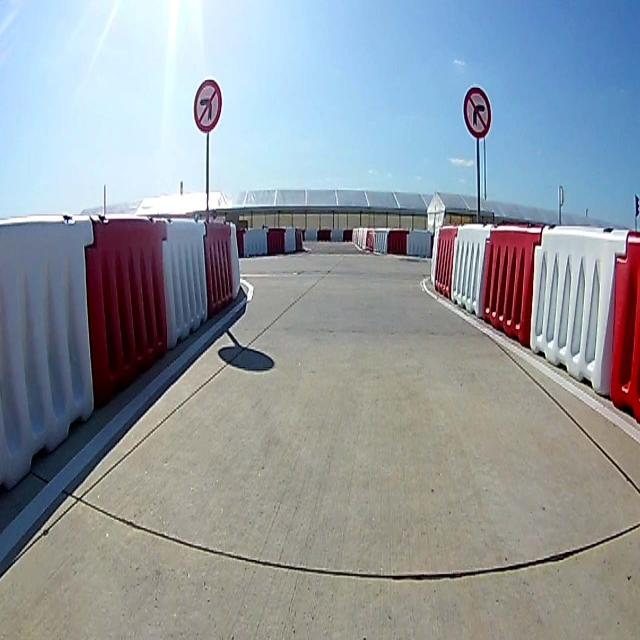sagadonulmez: (462, 87, 492, 141)
soladonulmez: (195, 81, 221, 131)
